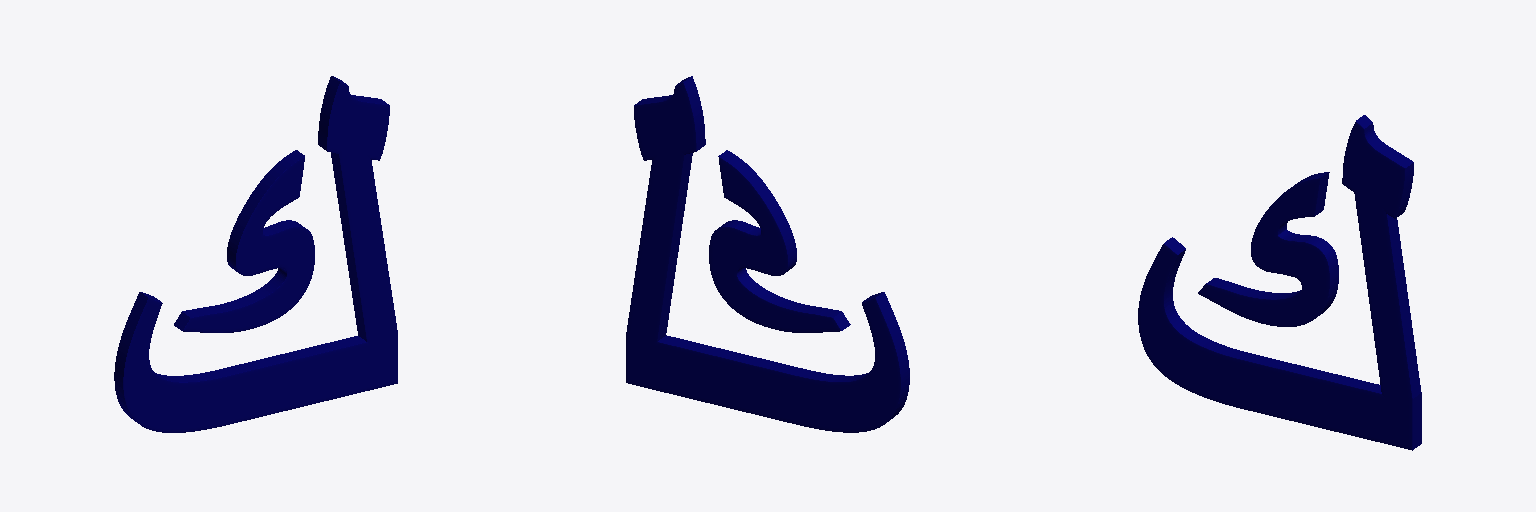
The model's file is Kaf.obj.
The picture shows the model from 3 angles: view 1: azimuth 30°, elevation 25°; view 2: azimuth 150°, elevation 25°; view 3: azimuth 330°, elevation 25°; orthographic projection.
Visible parts, largest first — view 1: Curve.021; view 2: Curve.021; view 3: Curve.021.
Boxes of the visible parts, x1,y1,x2,y2 form: Curve.021: [114, 76, 397, 432]; Curve.021: [626, 76, 909, 432]; Curve.021: [1138, 115, 1421, 450].
Size of the model in its own units: 3.85 by 4.22 by 0.2368.